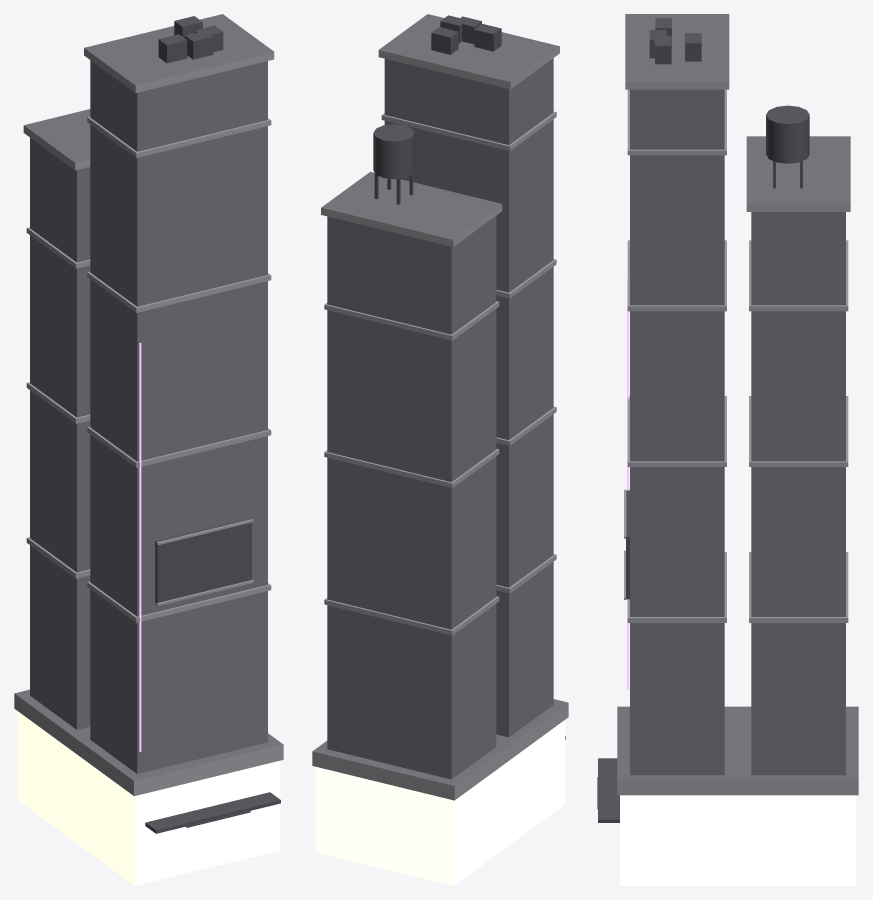
The model's file is r1014_twin.glb.
3 renders of one model, left to right at view 1: azimuth 30°, elevation 25°; view 2: azimuth 150°, elevation 25°; view 3: azimuth 270°, elevation 25°, orthographic. The views are drawn at different scales.
Visible parts, largest first — view 1: r1014_twin; view 2: r1014_twin; view 3: r1014_twin.
Boxes of the visible parts, x1,y1,x2,y2 form: r1014_twin: [14, 14, 283, 885]; r1014_twin: [312, 14, 568, 885]; r1014_twin: [597, 14, 858, 885].
Size of the model in its own units: 10.3 by 53.7 by 15.49.
